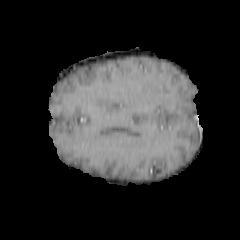glioma: (125, 74, 161, 105)
